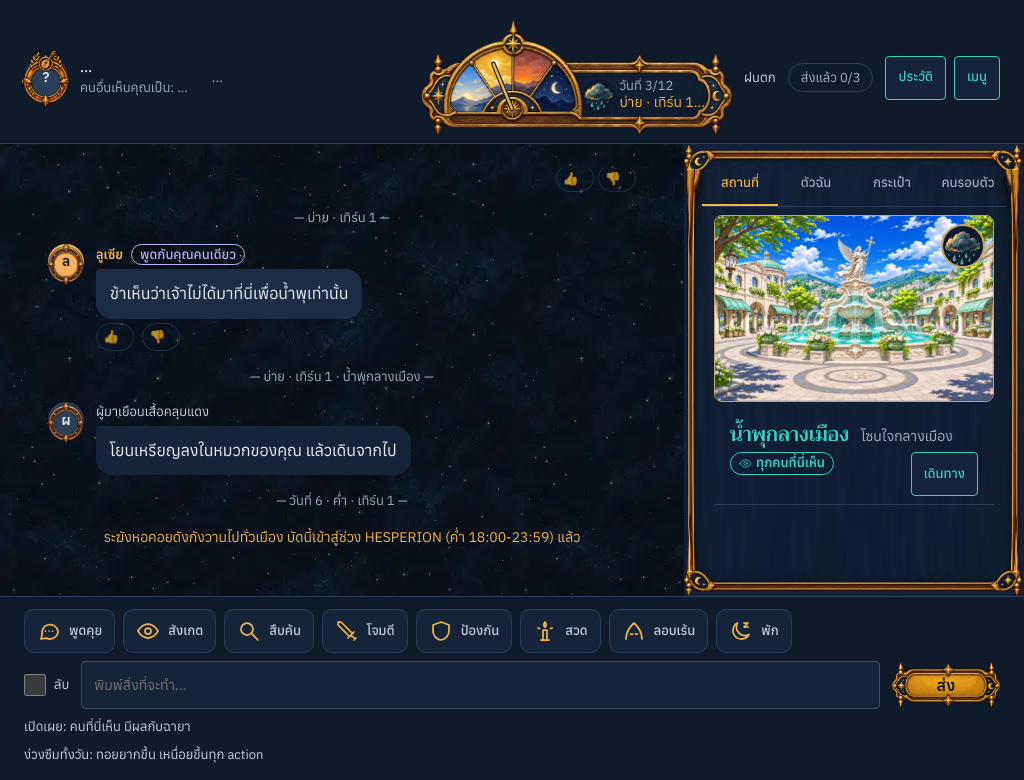
Test: C3 / C4 the action bar › ticking ลับ and sending: our box says ลับ in words
The image size is (1024, 780).
(page scrolled)
Type "ลอบตามนักบวชไป" into the field labelled "พิมพ์สิ่งที่จะทำ…" at x=481, y=685, box [81,661,880,709]
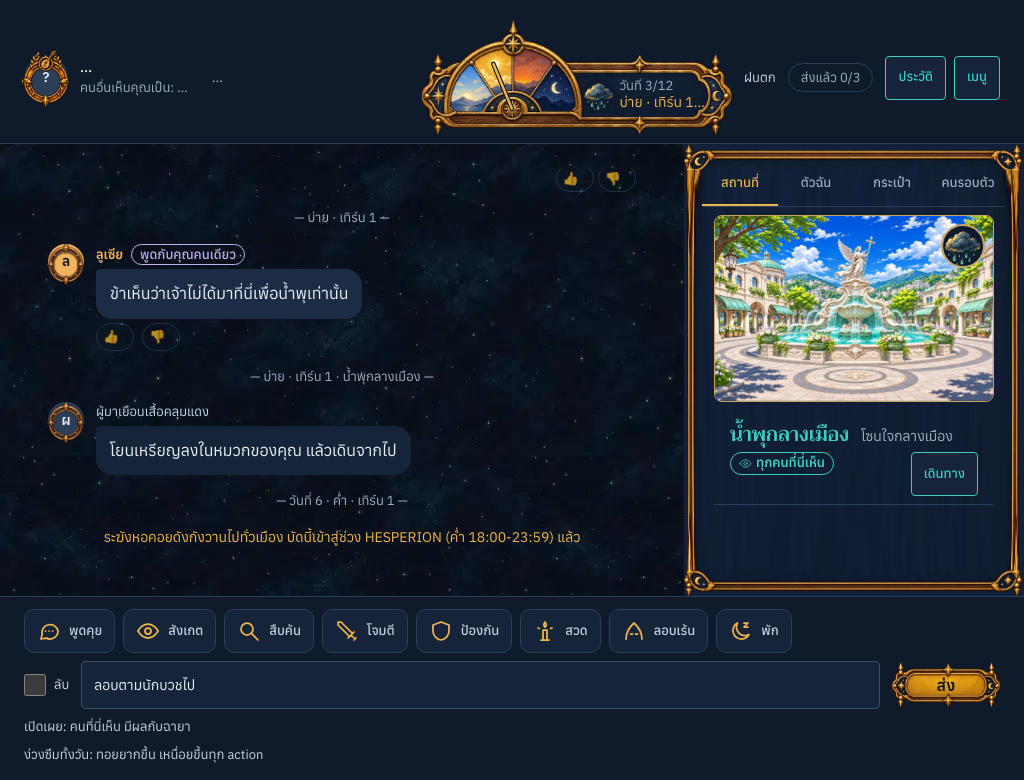
Click the checkbox labelled "ลับ" at x=35, y=685, box [24,674,46,696]
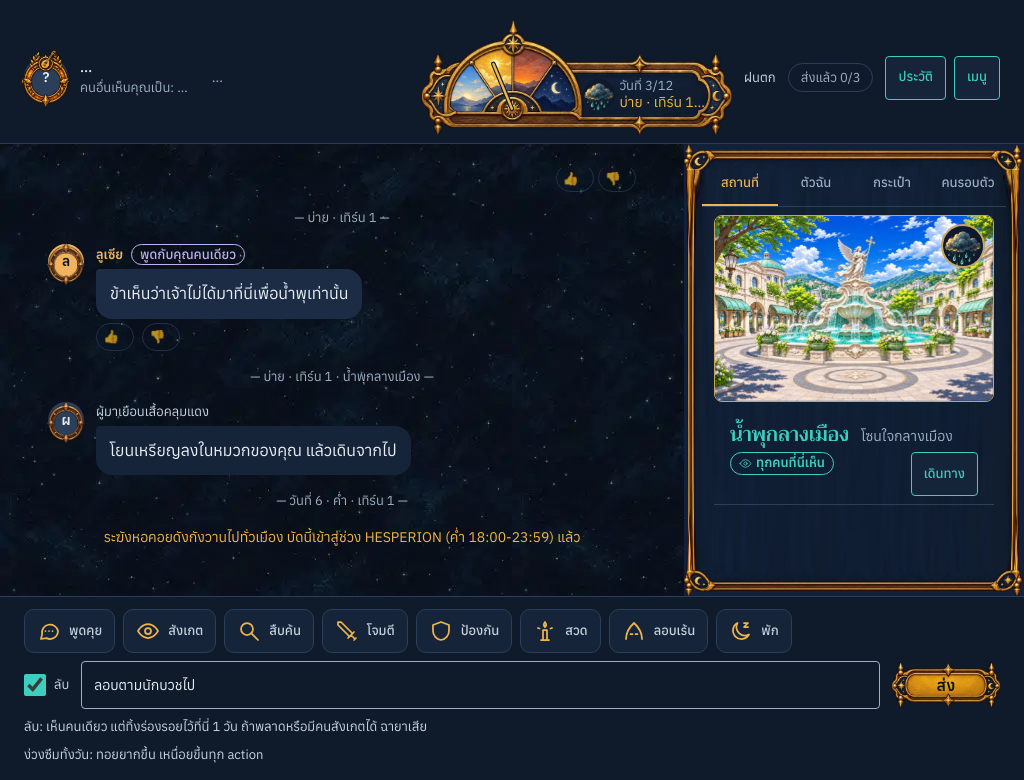
Click the button named "ส่ง action" at x=946, y=685, box [892,663,1000,707]
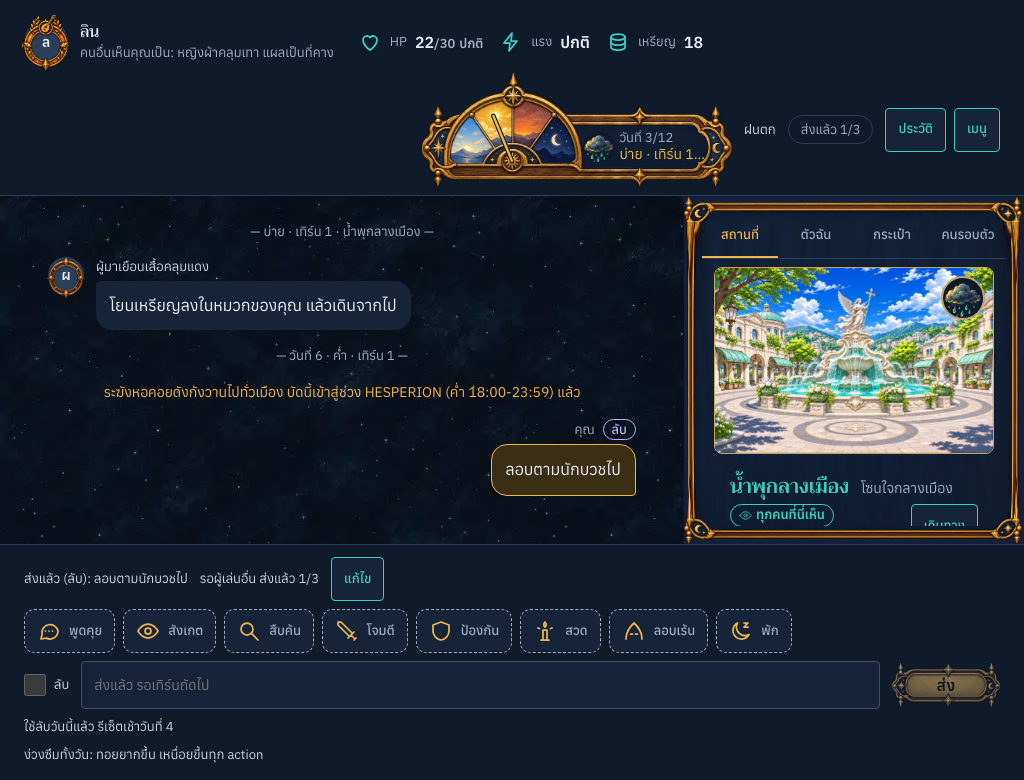
Now the text "ลับ" is shown, box [603,419,636,440]
